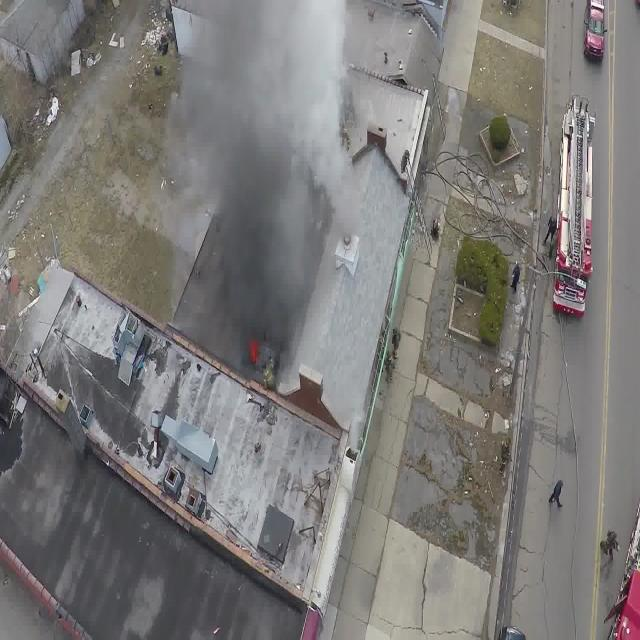Fire: (248, 339, 260, 364)
Smoke: (189, 0, 345, 266), (212, 156, 324, 324)
